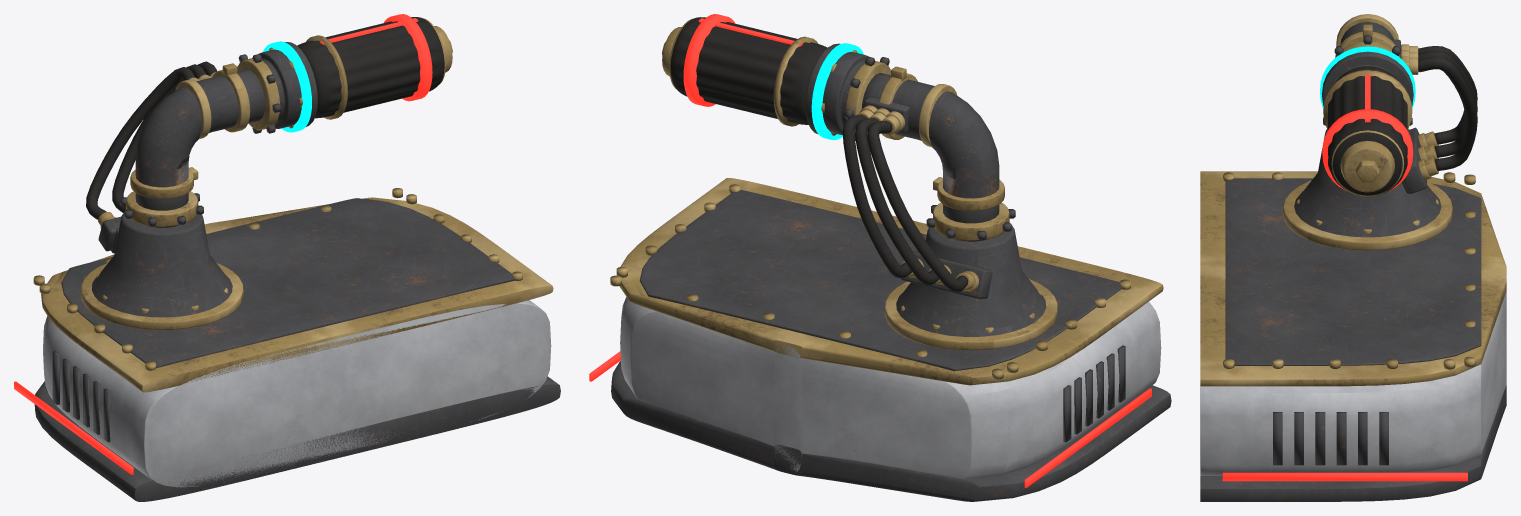
The model's file is handle_controller.glb.
The picture shows the model from 3 angles, left to right: view 1: azimuth 30°, elevation 25°; view 2: azimuth 150°, elevation 25°; view 3: azimuth 270°, elevation 25°; orthographic projection. The views are drawn at different scales.
Parts seen in each view (by area): view 1: Deck_R_Body, Deck_R_TopPlate, Deck_R_Trim, Deck_R_Skirt, Handle_R_Base, Handle_R_Grip, Handle_R_Elbow, Handle_R_Cables, Handle_R_BasePlate, Handle_R_Clamps, Handle_R_PipeRings, Handle_R_Collar (+7 smaller); view 2: Deck_R_Body, Deck_R_TopPlate, Deck_R_Trim, Deck_R_Skirt, Handle_R_Grip, Handle_R_Base, Handle_R_Elbow, Handle_R_Cables, Handle_R_BasePlate, Deck_R_Vents, Handle_R_Clamps, Handle_R_Collar (+9 smaller); view 3: Deck_R_TopPlate, Deck_R_Body, Deck_R_Trim, Deck_R_Skirt, Handle_R_Base, Handle_R_Grip, Handle_R_Cables, Handle_R_BasePlate, Deck_R_Vents, Deck_R_RedLine, Handle_R_EndCap, Handle_R_Collar (+8 smaller).
Boxes of the visible parts, left/top/right/bottom form: Deck_R_Body: left=43, top=300, right=551, bottom=487; Deck_R_TopPlate: left=61, top=198, right=515, bottom=368; Deck_R_Trim: left=41, top=197, right=553, bottom=392; Deck_R_Skirt: left=34, top=376, right=560, bottom=501; Handle_R_Base: left=91, top=212, right=232, bottom=317; Handle_R_Grip: left=297, top=17, right=444, bottom=118; Handle_R_Elbow: left=135, top=69, right=264, bottom=227; Handle_R_Cables: left=86, top=61, right=217, bottom=219; Handle_R_BasePlate: left=81, top=262, right=243, bottom=329; Handle_R_Clamps: left=130, top=63, right=250, bottom=198; Handle_R_PipeRings: left=126, top=58, right=279, bottom=226; Handle_R_Collar: left=259, top=42, right=317, bottom=128; Deck_R_Body: left=620, top=297, right=1161, bottom=479; Deck_R_TopPlate: left=639, top=190, right=1121, bottom=370; Deck_R_Trim: left=619, top=178, right=1163, bottom=385; Deck_R_Skirt: left=611, top=361, right=1171, bottom=501; Handle_R_Grip: left=670, top=17, right=827, bottom=124; Handle_R_Base: left=896, top=225, right=1046, bottom=336; Handle_R_Elbow: left=861, top=73, right=999, bottom=241; Handle_R_Cables: left=842, top=115, right=968, bottom=291; Handle_R_BasePlate: left=884, top=279, right=1057, bottom=350; Deck_R_Vents: left=1063, top=345, right=1125, bottom=442; Handle_R_Clamps: left=879, top=66, right=1004, bottom=210; Handle_R_Collar: left=805, top=43, right=868, bottom=135; Deck_R_TopPlate: left=1225, top=178, right=1481, bottom=365; Deck_R_Body: left=1200, top=291, right=1506, bottom=475; Deck_R_Trim: left=1200, top=171, right=1506, bottom=386; Deck_R_Skirt: left=1200, top=385, right=1506, bottom=501; Handle_R_Base: left=1294, top=129, right=1441, bottom=237; Handle_R_Grip: left=1328, top=66, right=1407, bottom=196; Handle_R_Cables: left=1418, top=46, right=1477, bottom=171; Handle_R_BasePlate: left=1282, top=180, right=1452, bottom=250; Deck_R_Vents: left=1273, top=412, right=1388, bottom=465; Deck_R_RedLine: left=1222, top=472, right=1467, bottom=481; Handle_R_EndCap: left=1340, top=140, right=1394, bottom=192; Handle_R_Collar: left=1322, top=51, right=1413, bottom=105.
Size of the model in its own units: 0.628 by 0.4885 by 0.375.
6 materials, 4 textured.
